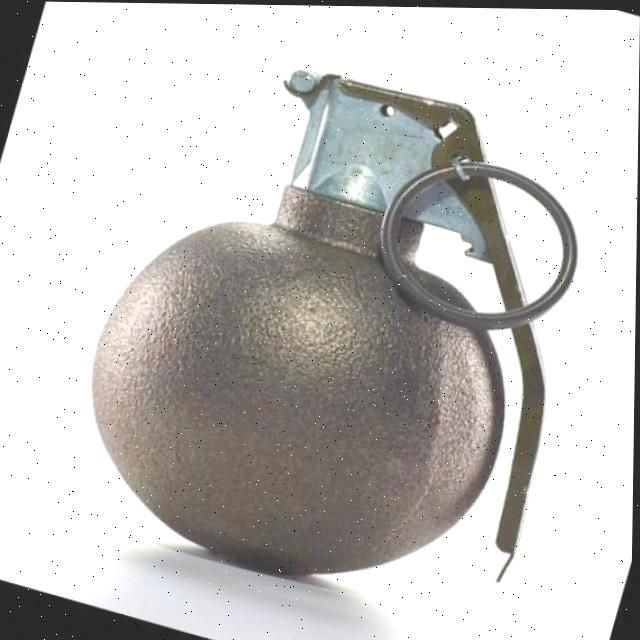grenade: (25, 16, 640, 640)
